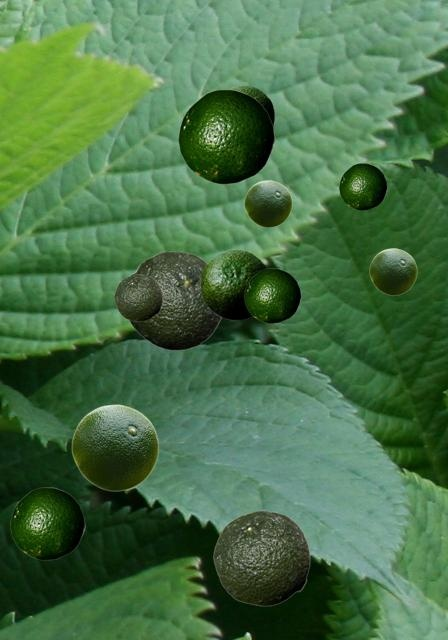calamansi: (213, 510, 309, 605), (178, 89, 274, 183), (129, 251, 221, 349), (71, 404, 158, 490), (10, 487, 84, 559), (200, 249, 267, 319), (244, 268, 300, 322), (369, 248, 416, 294), (339, 163, 386, 209), (244, 180, 291, 226), (114, 274, 161, 320), (229, 85, 273, 123)
